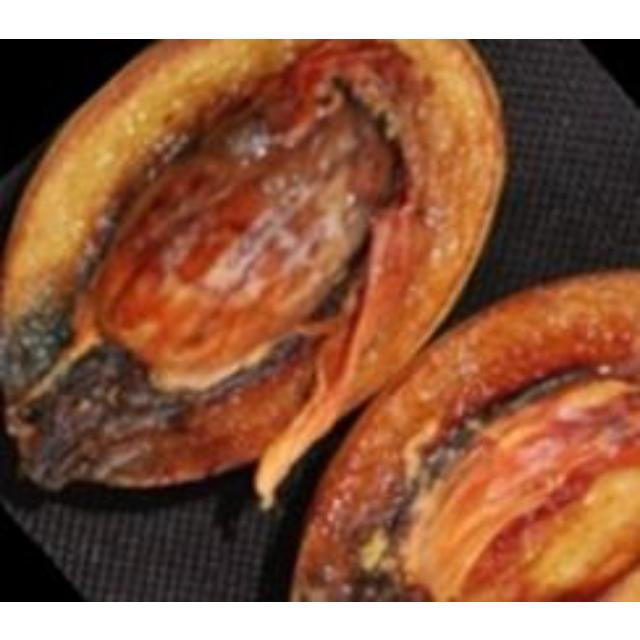damaged: (0, 38, 511, 599), (283, 269, 637, 599)
